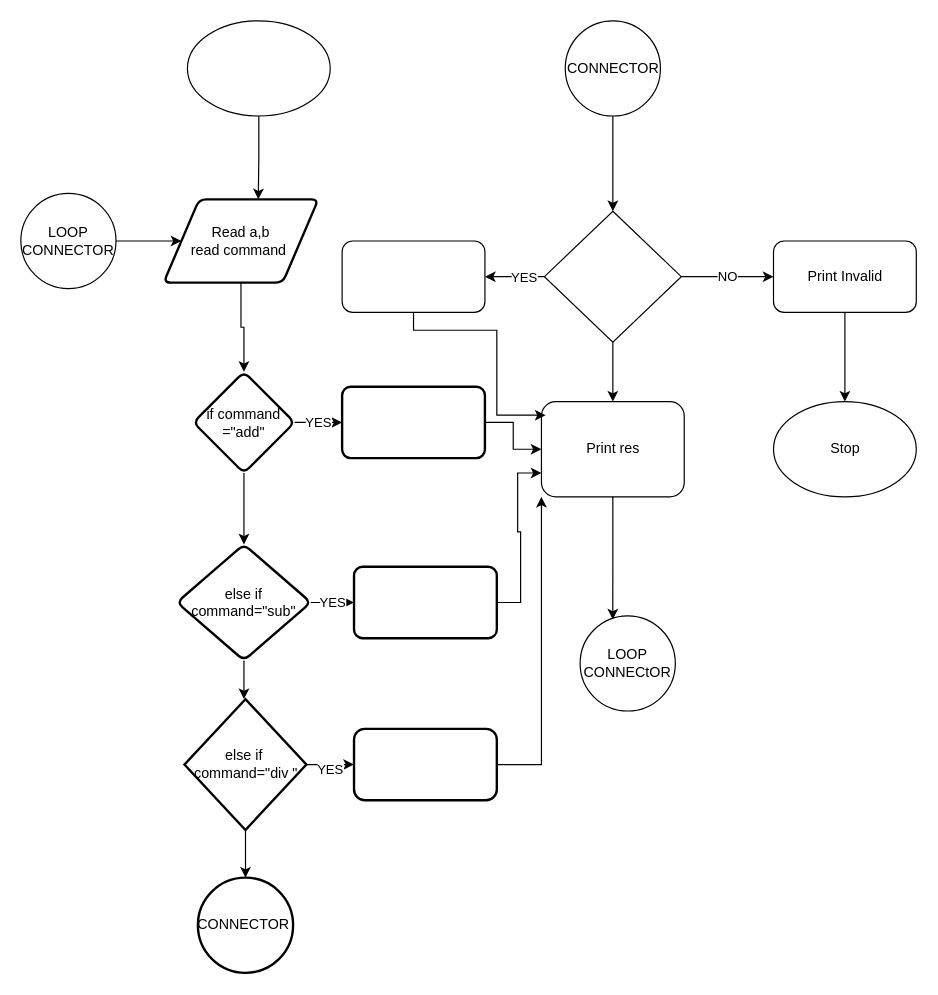
Some shapes in this 938 by 995 pixel diagram are drawn without their labels. The shapes that lost their labels are listed below. From the top down, each one's centre as x and y in pixels, then its label:
(x=258, y=68): Start
(x=413, y=276): res=a*b
(x=612, y=276): else if command="mul"
(x=413, y=422): res=a+b
(x=424, y=602): res=a-b
(x=424, y=764): res=a/b
